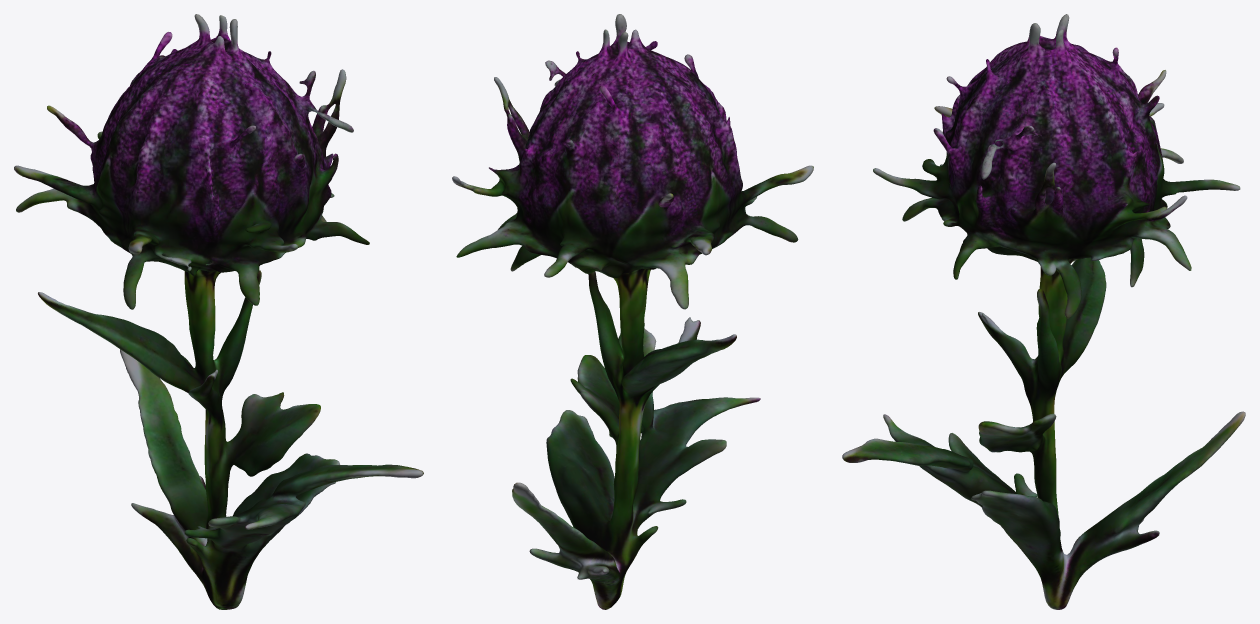
File: 839b4af83469_Design_a_3D_low_pol.fbx
The picture shows the model from 3 angles, left to right: view 1: azimuth 30°, elevation 25°; view 2: azimuth 150°, elevation 25°; view 3: azimuth 270°, elevation 25°; orthographic projection. The views are drawn at different scales.
Parts seen in each view (by area): view 1: high_poly; view 2: high_poly; view 3: high_poly.
Part boxes in pixels (x1,y1,x2,y2): high_poly: (14, 14, 423, 609); high_poly: (452, 14, 813, 609); high_poly: (842, 14, 1245, 609).
Bounding box in the file's own units: 48.29 × 100 × 62.61.
